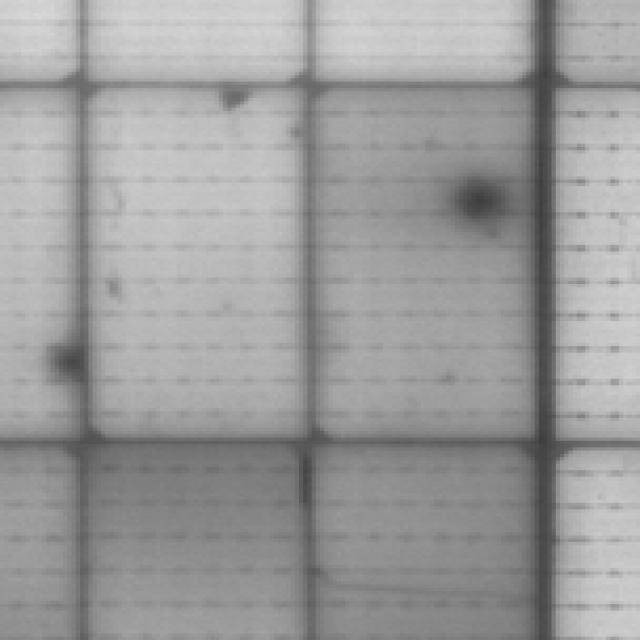BLACK SPOT: (452, 167, 518, 229), (42, 340, 92, 385)
